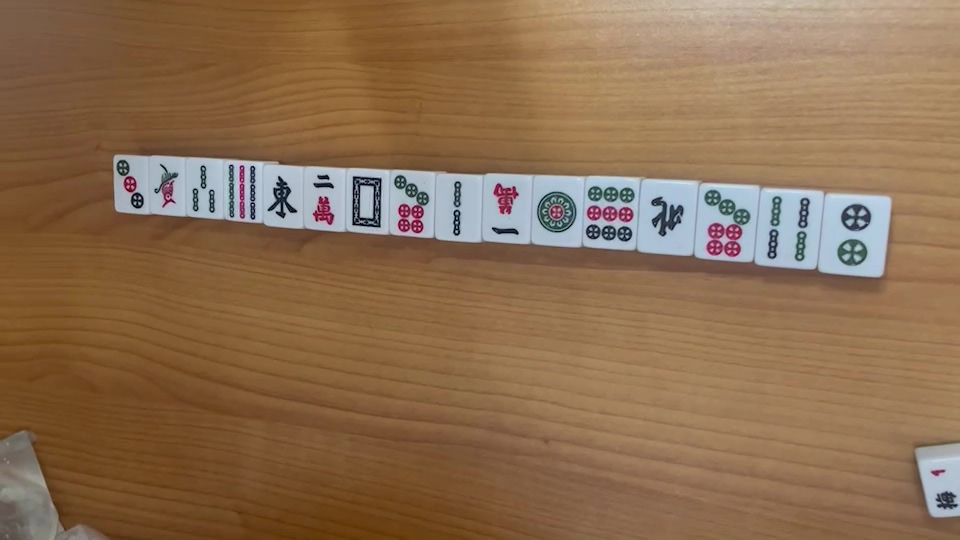b-1: (151, 162, 184, 210)
b-2: (830, 201, 877, 269), (446, 179, 471, 240)
b-3: (188, 162, 219, 217)
b-4: (766, 195, 810, 265)
b-9: (225, 161, 258, 219)
c-1: (484, 181, 523, 241)
c-2: (307, 172, 340, 226)
d-1: (536, 190, 579, 236)
d-3: (116, 159, 146, 212)
d-7: (701, 186, 752, 261), (393, 174, 430, 236)
d-9: (583, 181, 636, 244)
honors-east: (265, 174, 298, 220)
honors-north: (647, 195, 686, 236)
honors-white: (350, 175, 384, 228)
